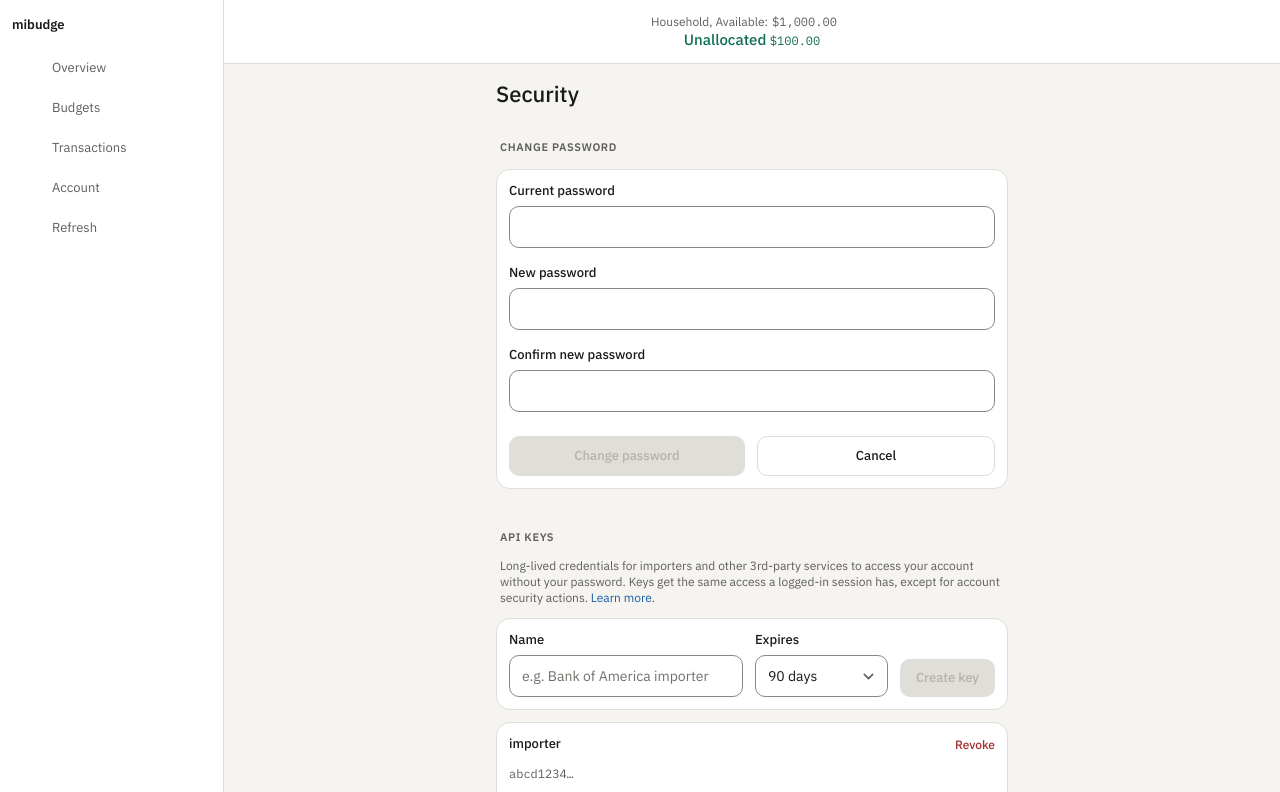
it: settings pages › shows why revoking an API key failed
Click the button "Revoke". click: (975, 745)
box: [955,737,995,753]
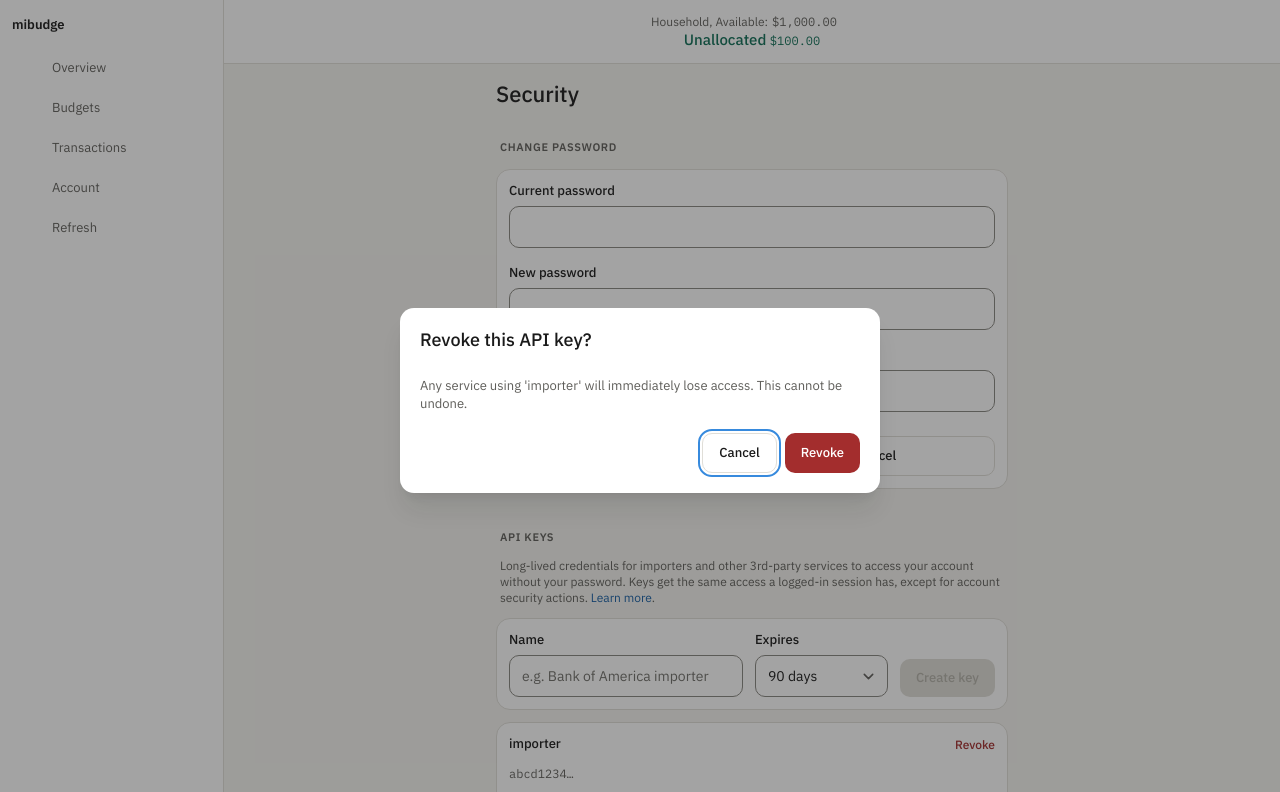
Click the button "Revoke". click: (822, 452)
box: [785,432,860,472]
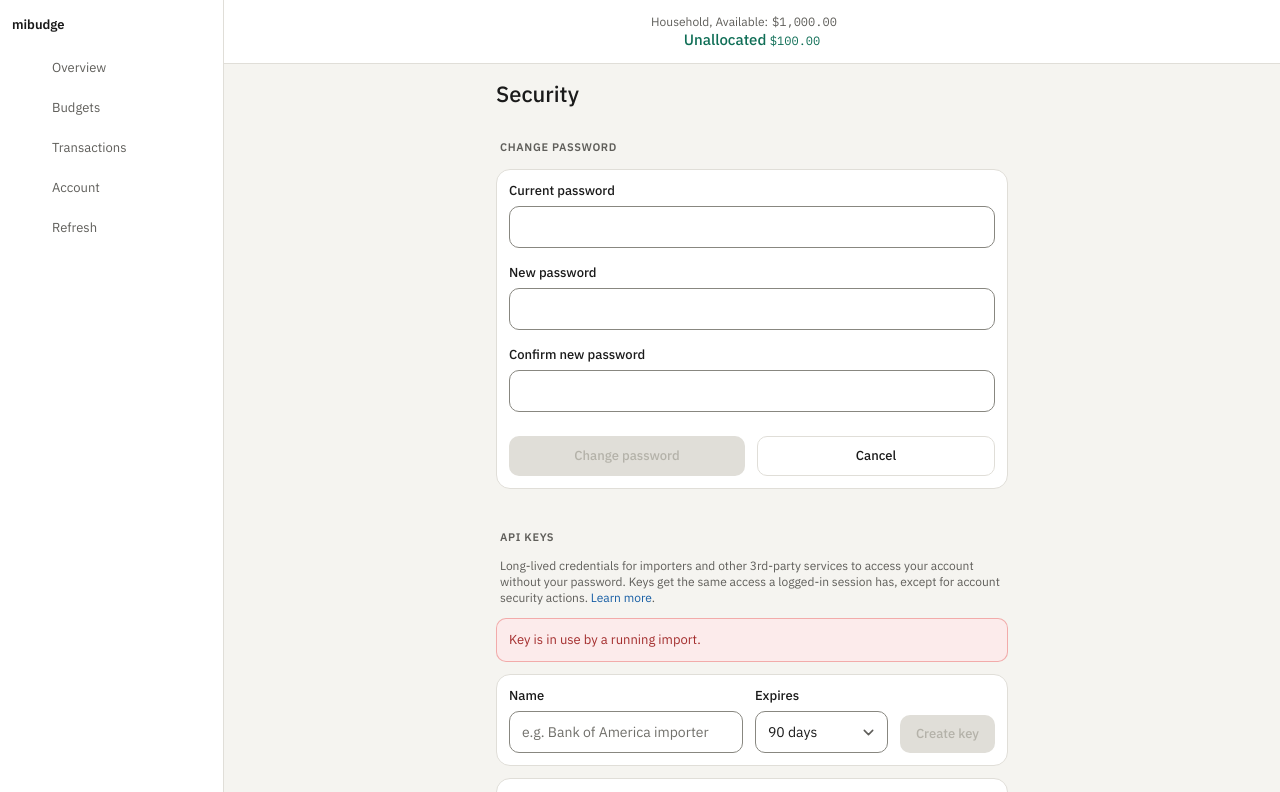
Expected: the text "Key is in use by a running import." is shown, [496,618,1008,662]
